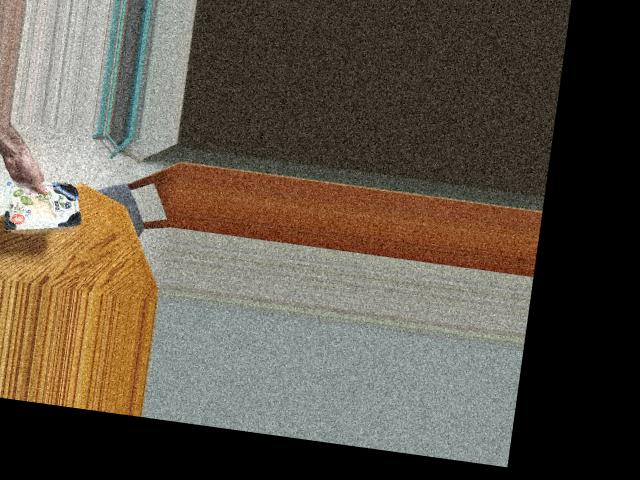cheese: (1, 173, 85, 240)
